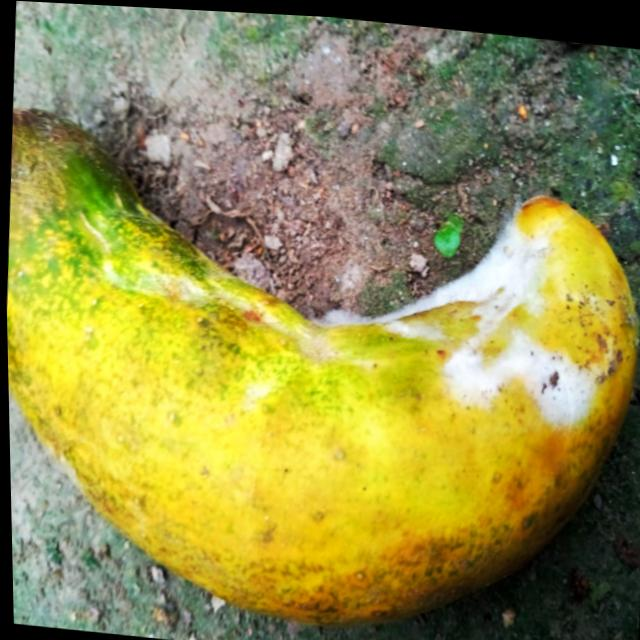Pythium-Fruit-Rot: (320, 173, 615, 445)
